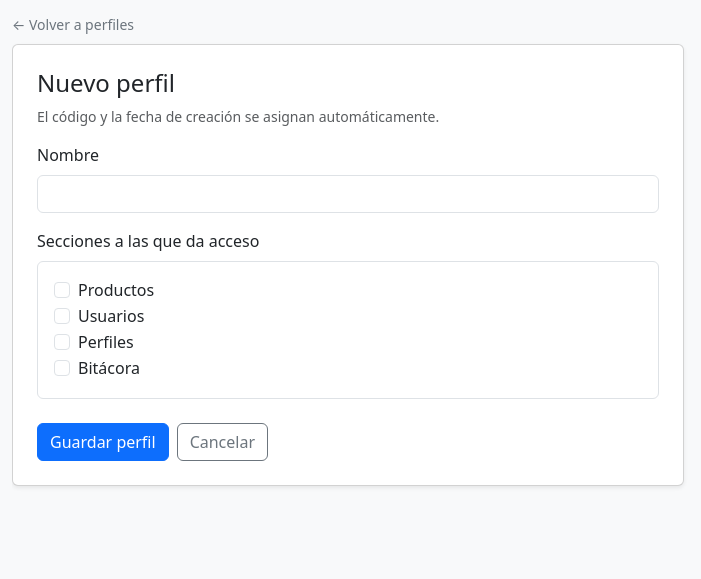
ProfileFormComponent › alta (/perfiles/nuevo) › envía las secciones marcadas (desmarcar quita la sección) y limpia el formulario
Type "Supervisor" into the field with id "name" at (348, 194), box top-left (37, 175), bottom-right (659, 213)
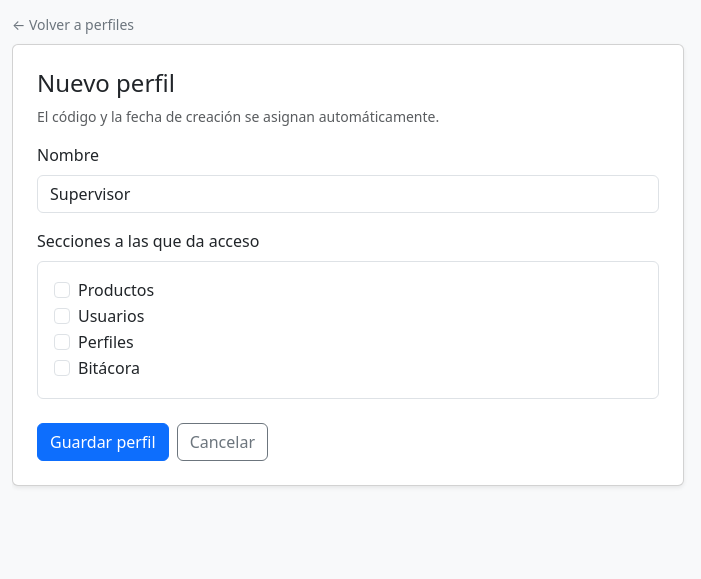
Click the checkbox labelled "Productos" at (62, 290), box top-left (54, 282), bottom-right (70, 298)
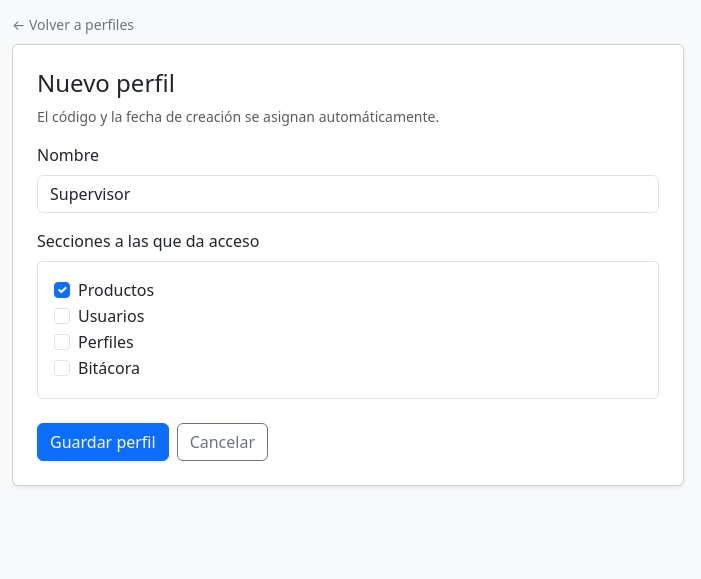
Click the checkbox labelled "Usuarios" at (62, 316), box top-left (54, 308), bottom-right (70, 324)
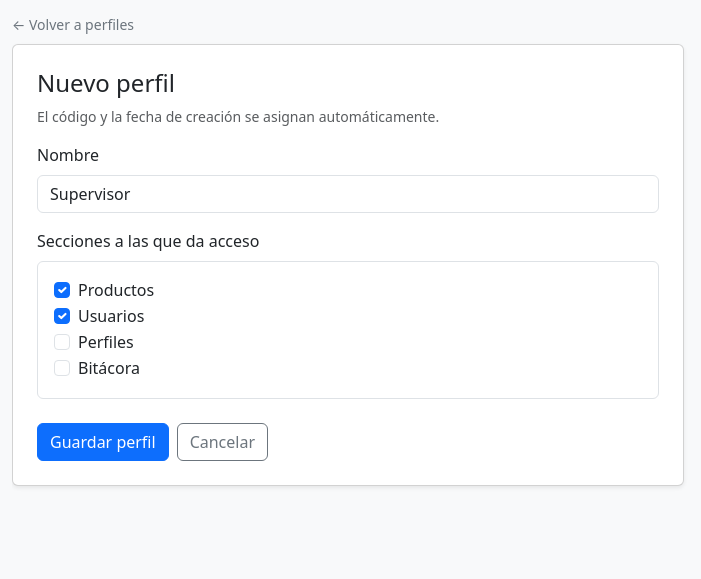
Click the checkbox labelled "Perfiles" at (62, 342), box top-left (54, 334), bottom-right (70, 350)
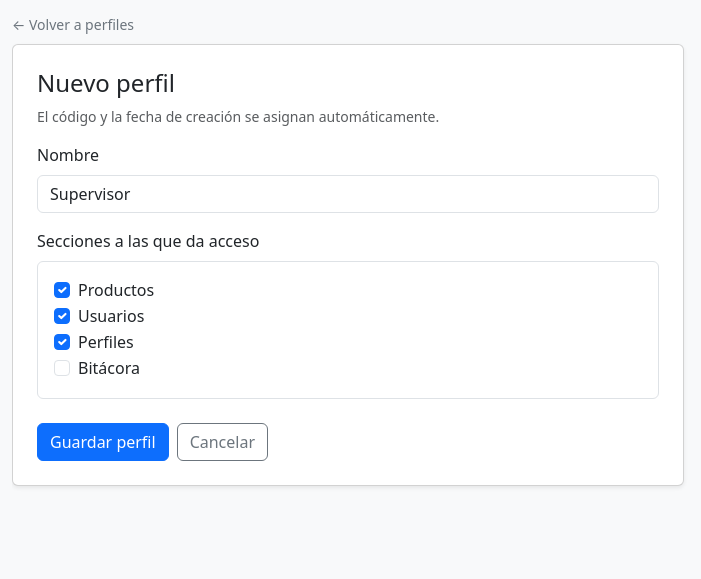
Click the checkbox labelled "Perfiles" at (62, 342), box top-left (54, 334), bottom-right (70, 350)
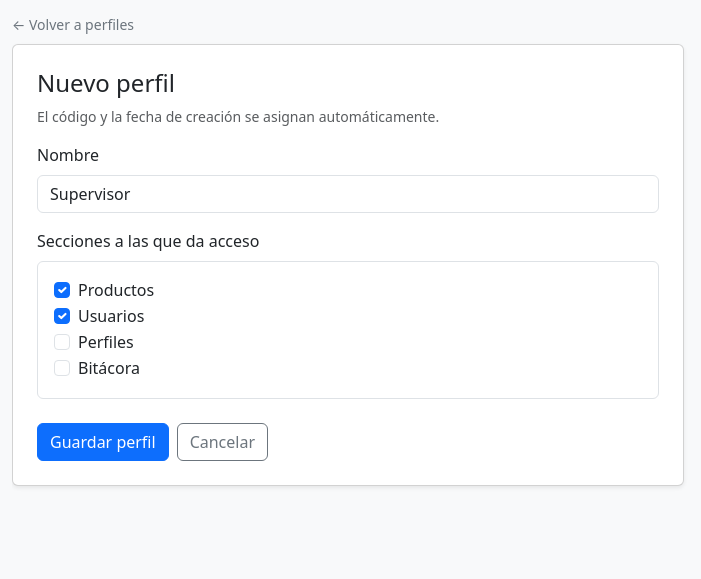
Submit the form, box top-left (37, 143), bottom-right (659, 461)
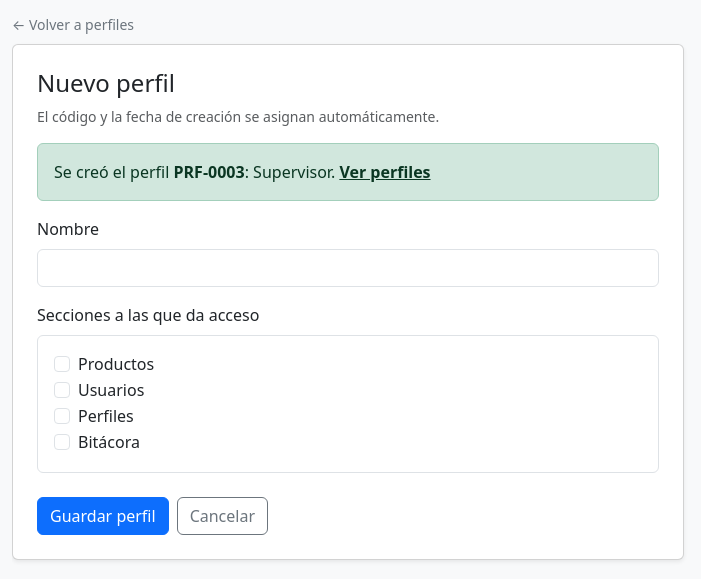
Expected: the message with class "alert-success" shows "Se creó el perfil PRF-0003", top-left (37, 143), bottom-right (659, 201)
Expected: the field with id "name" is empty, top-left (37, 249), bottom-right (659, 287)
